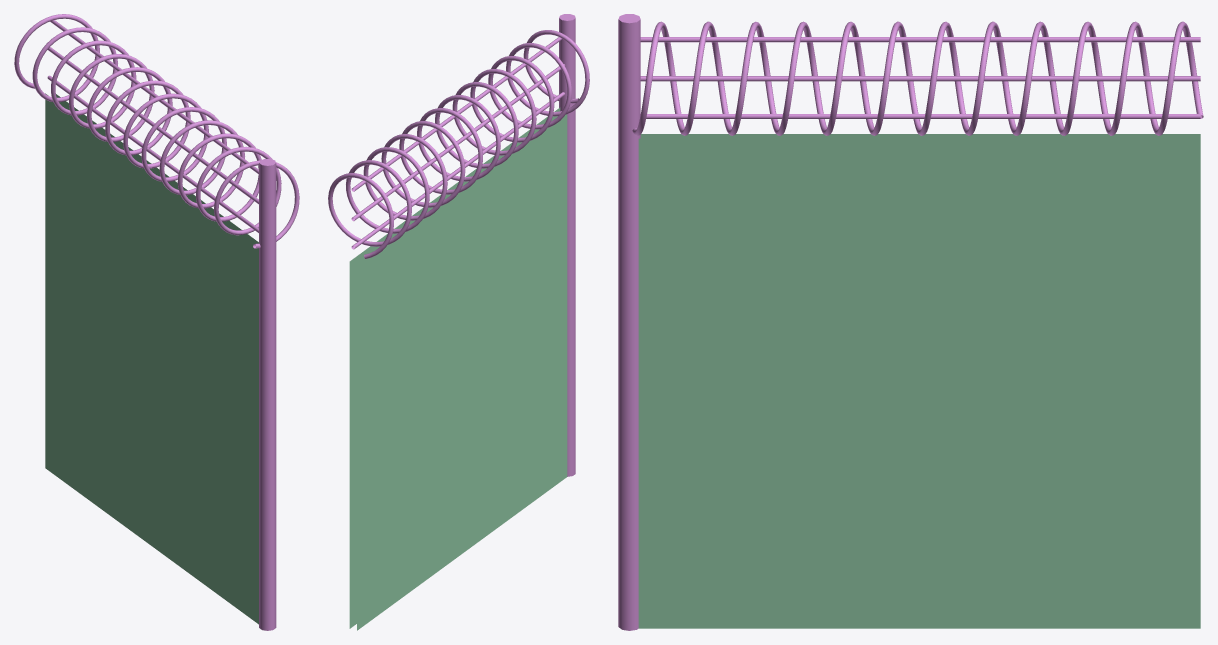
The model's file is WiredFence.fbx.
3 views of the same model, side by side, from view 1: azimuth 30°, elevation 25°; view 2: azimuth 150°, elevation 25°; view 3: azimuth 270°, elevation 25° (orthographic). The views are drawn at different scales.
Visible parts, largest first — view 1: WiredFence; view 2: WiredFence; view 3: WiredFence.
Part boxes in pixels (<box>): WiredFence: <box>14,14,299,630</box>; WiredFence: <box>328,14,589,630</box>; WiredFence: <box>618,14,1203,630</box>.
Bounding box in the file's own units: 15.82 × 92.78 × 80.98.
